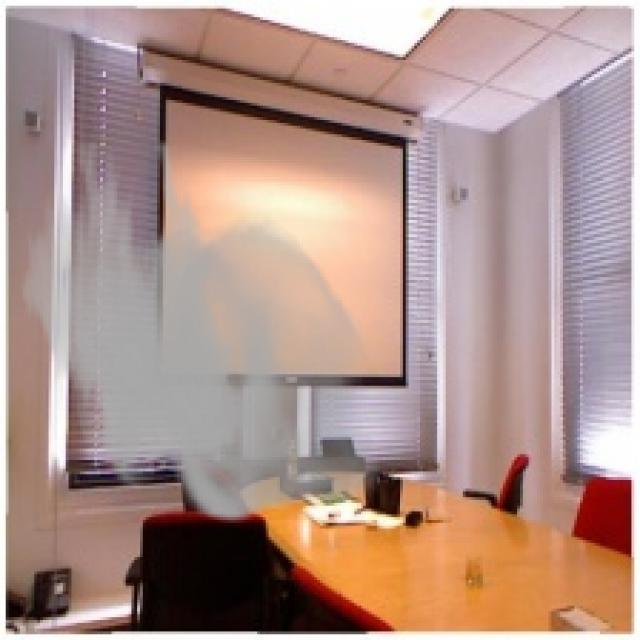Smoke: (17, 140, 380, 523)
